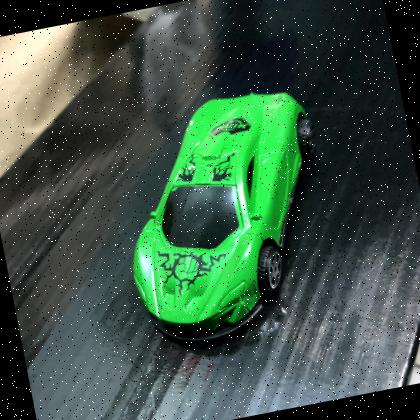Car: (131, 92, 315, 352)
